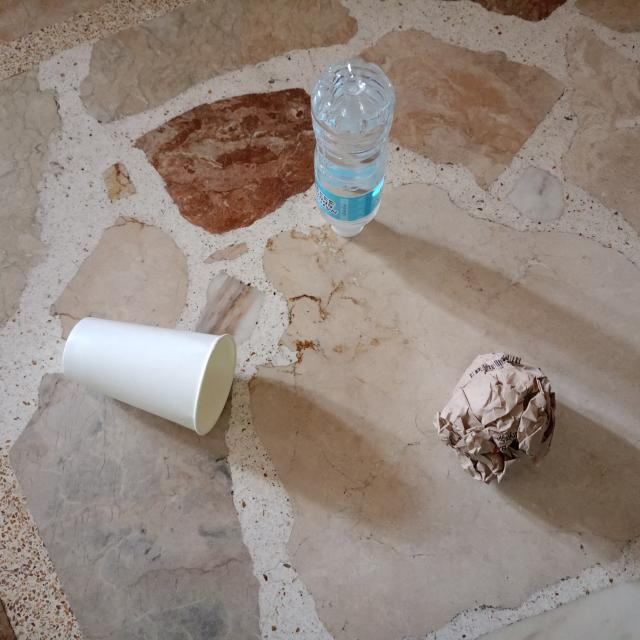Anorganik: (296, 52, 408, 242)
Organik: (51, 306, 246, 454), (427, 339, 571, 495)
